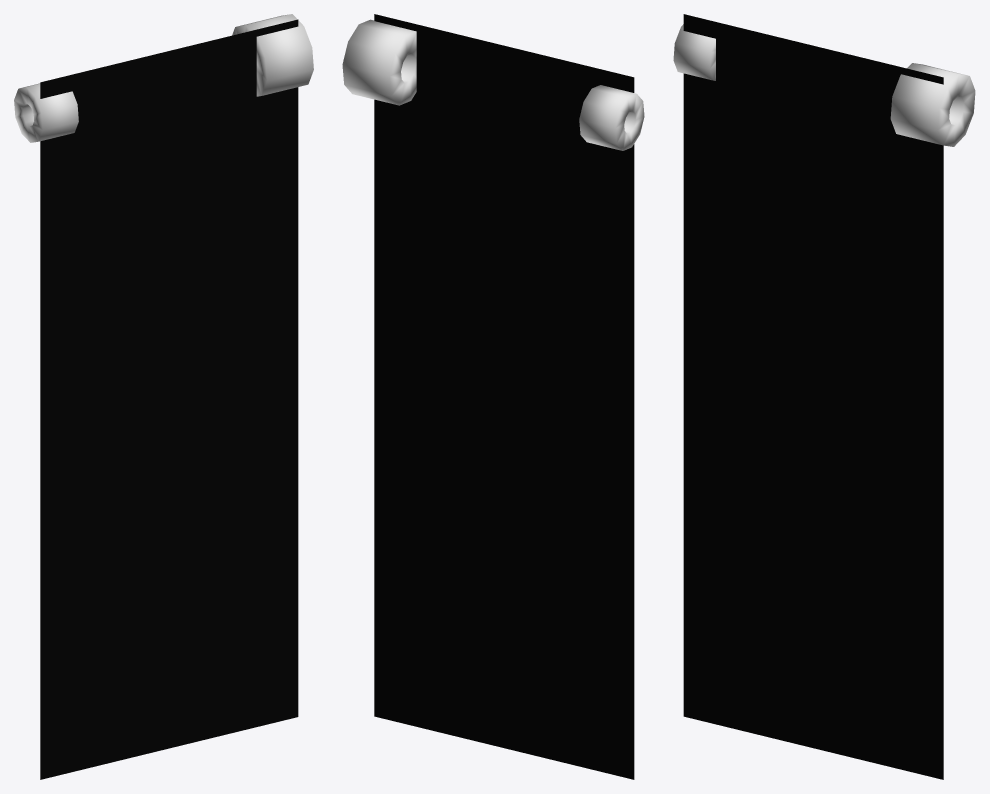
The model's file is mesh_banner_blue.fbx.
3 renders of one model, left to right at view 1: azimuth 30°, elevation 25°; view 2: azimuth 150°, elevation 25°; view 3: azimuth 330°, elevation 25°, orthographic.
Visible parts, largest first — view 1: mesh_banner_blue; view 2: mesh_banner_blue; view 3: mesh_banner_blue.
Part boxes in pixels (left/top/right/bottom): mesh_banner_blue: left=14, top=14, right=313, bottom=779; mesh_banner_blue: left=342, top=14, right=644, bottom=779; mesh_banner_blue: left=673, top=14, right=975, bottom=779.
Size of the model in its own units: 52.43 by 12.77 by 131.
